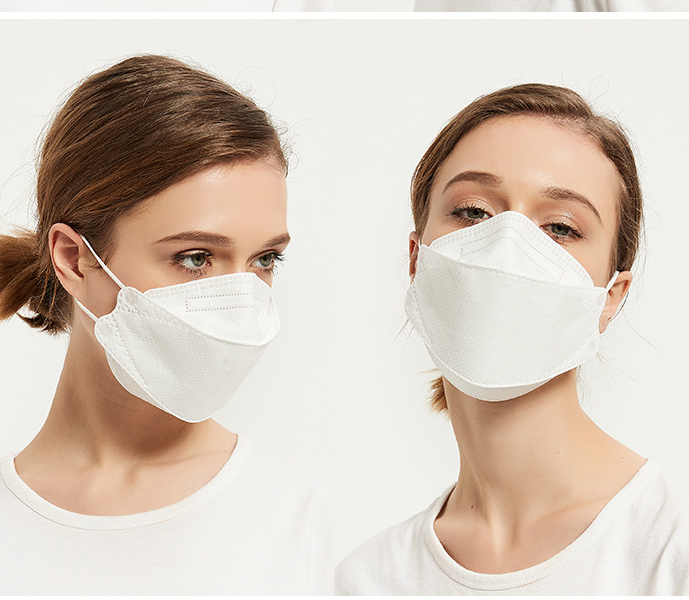mask: (403, 208, 609, 411), (83, 277, 293, 432)
person: (1, 48, 328, 600), (346, 48, 673, 600)
